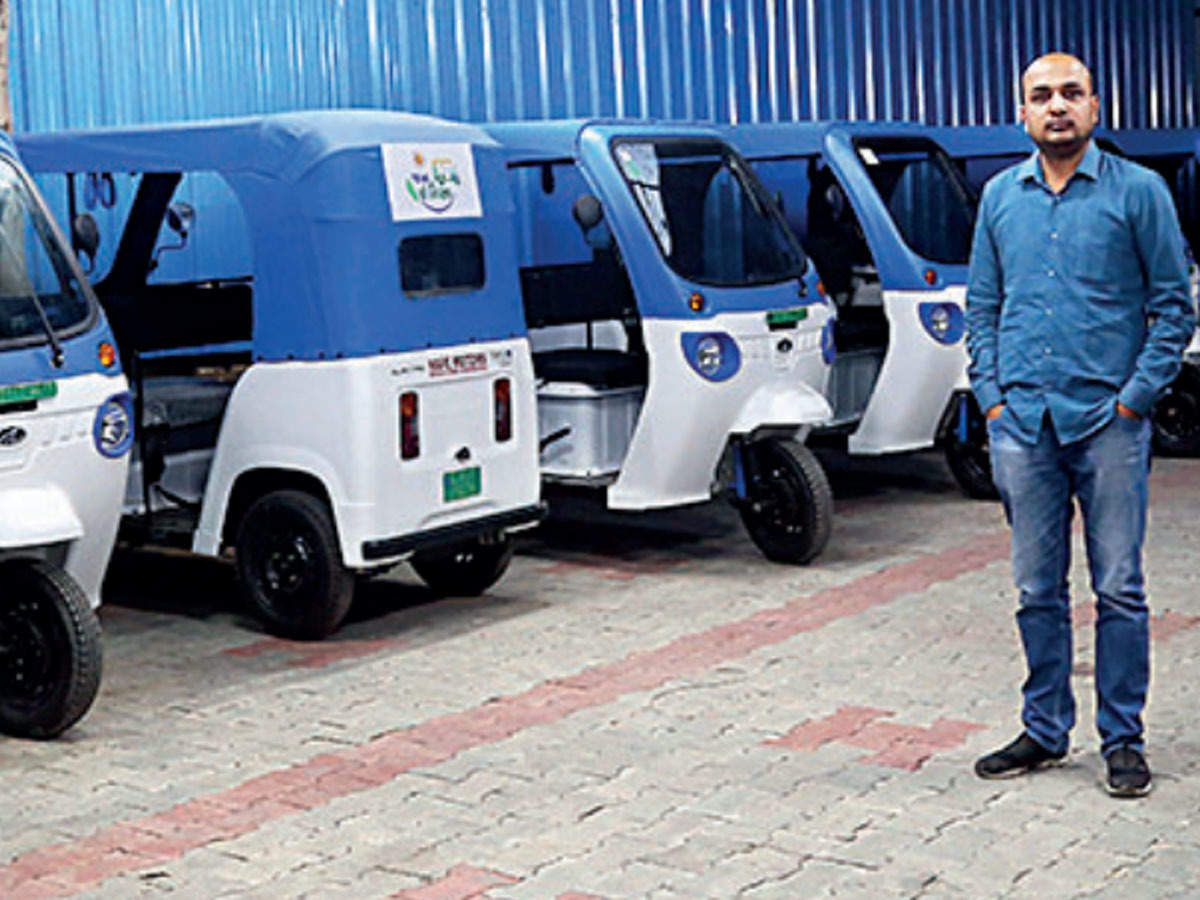rickshaw: (67, 104, 556, 613), (510, 87, 856, 566), (1, 123, 143, 755), (790, 80, 1004, 483)
